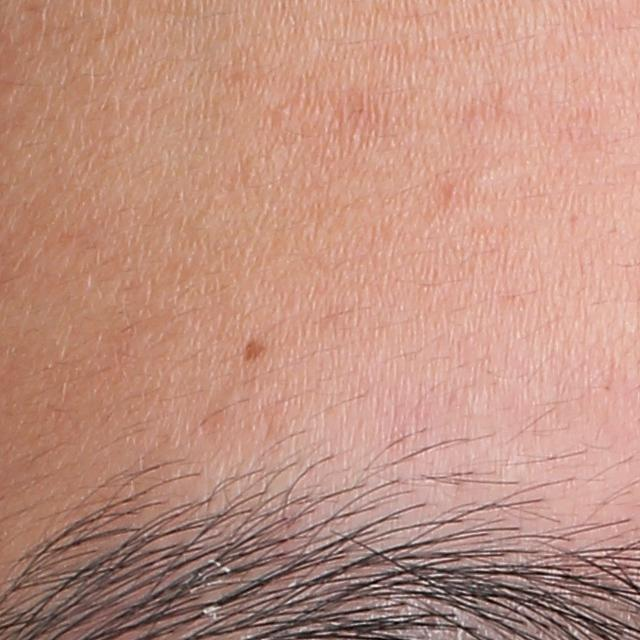nevus: (242, 337, 268, 363)
